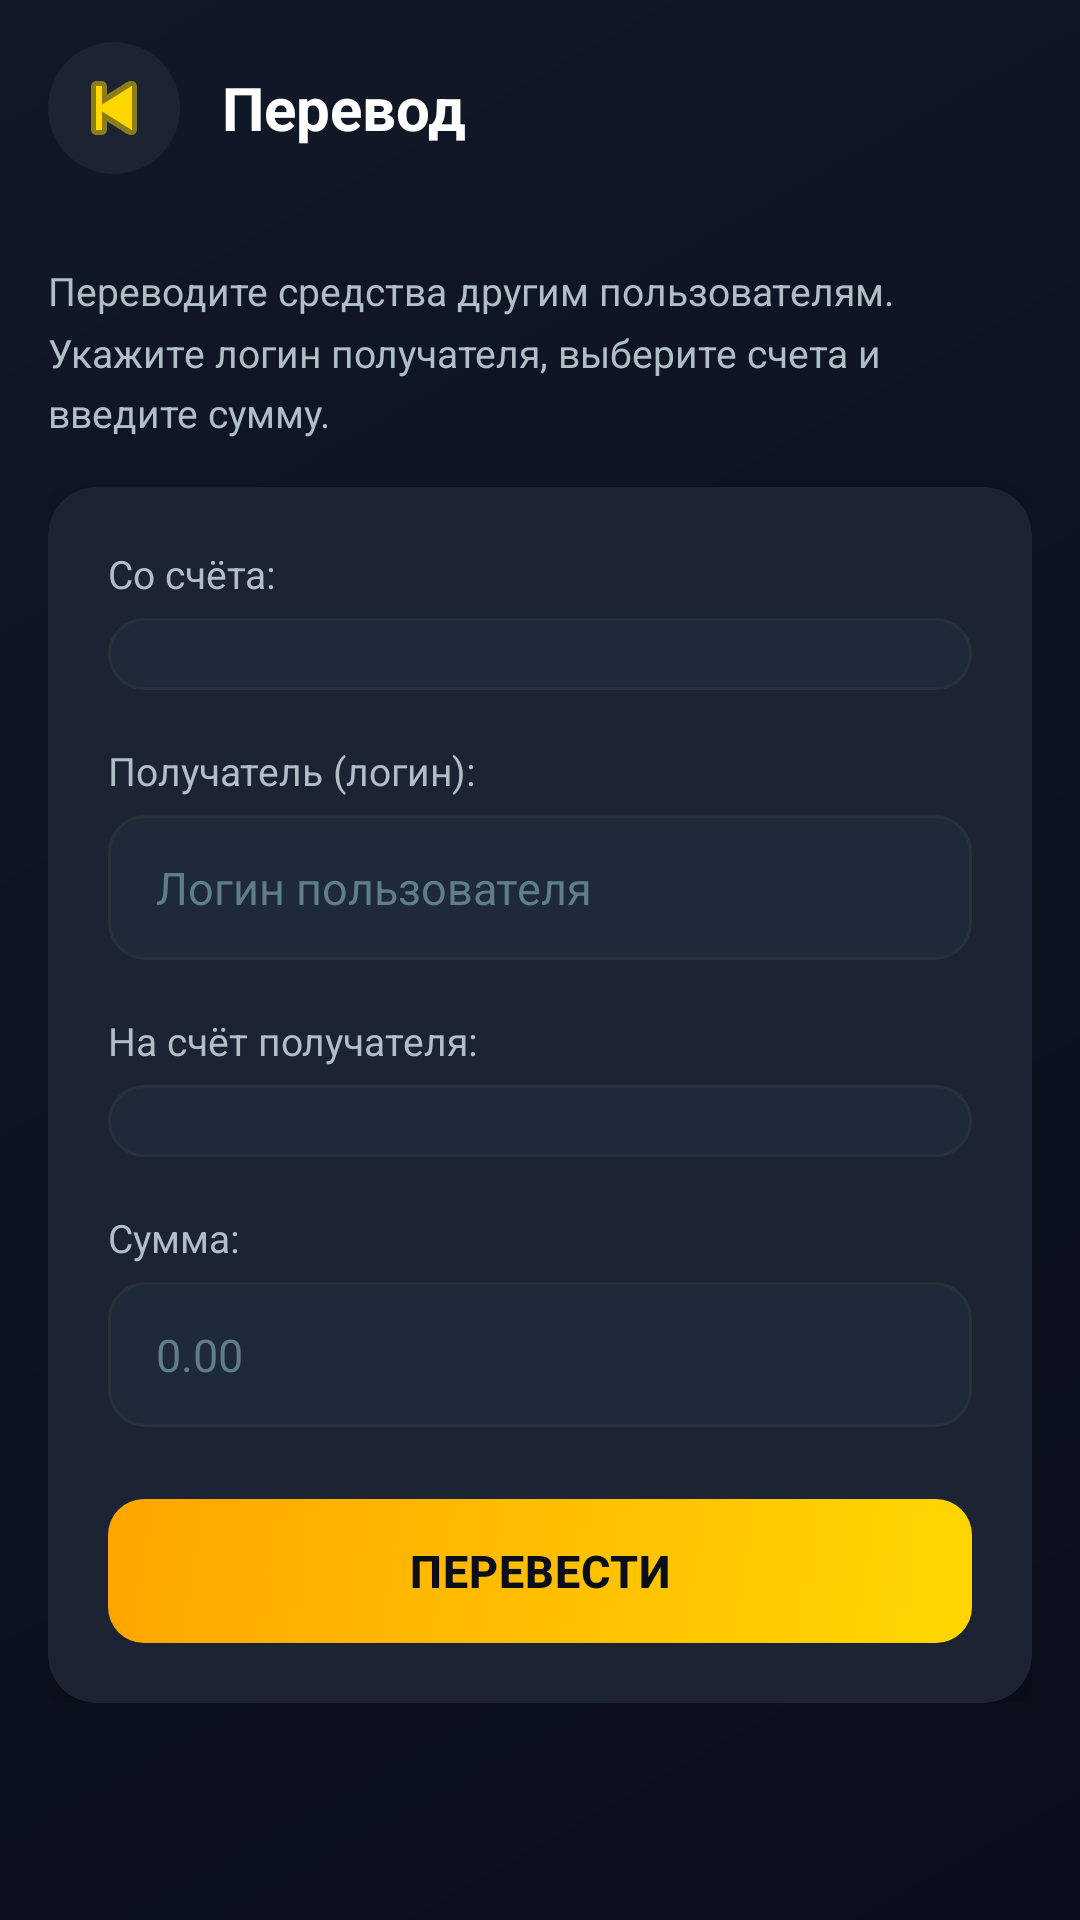

Icon click points for this 1080 x 1920 phone screenshot, format (x,y):
Назад: (114,108)
